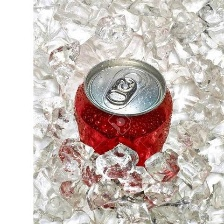can: (67, 55, 174, 165)
